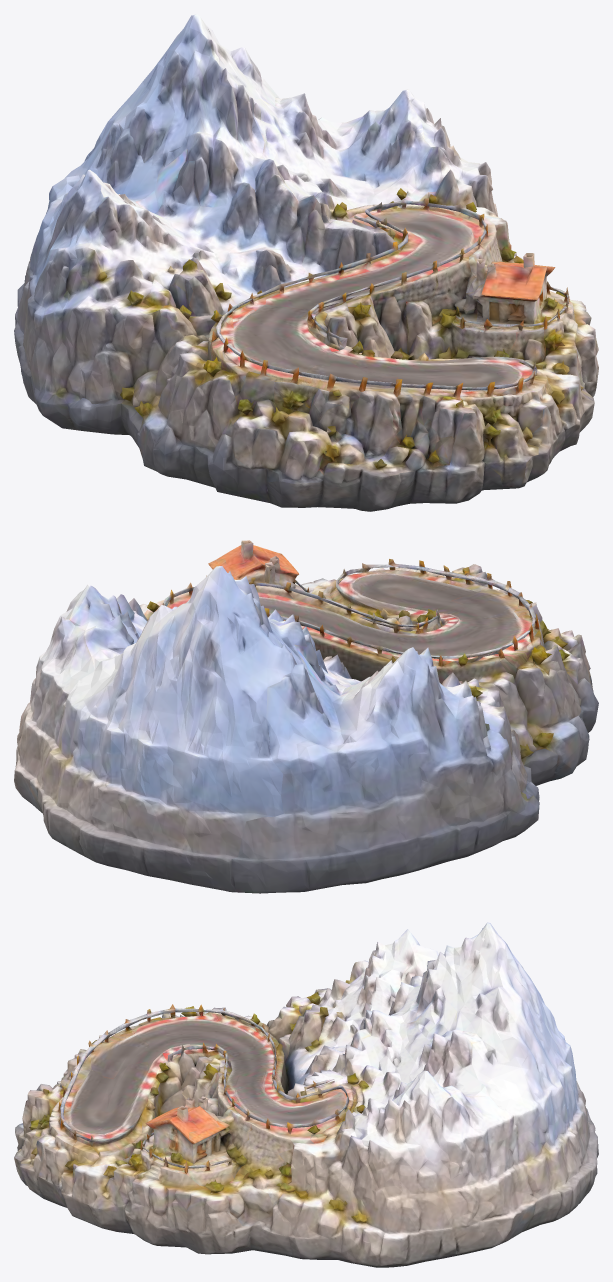
Rendered from highland.glb.
The picture shows the model from 3 angles, top to bottom: view 1: azimuth 30°, elevation 25°; view 2: azimuth 150°, elevation 25°; view 3: azimuth 270°, elevation 25°; orthographic projection. The views are drawn at different scales.
Visible parts, largest first — view 1: model; view 2: model; view 3: model.
Part boxes in pixels (x1=…): model: x1=14, y1=14, x2=598, y2=511; model: x1=14, y1=540, x2=598, y2=893; model: x1=14, y1=922, x2=598, y2=1267.
Size of the model in its own units: 30.07 by 16.56 by 36.
Materials: 1 (1 with a texture image).
